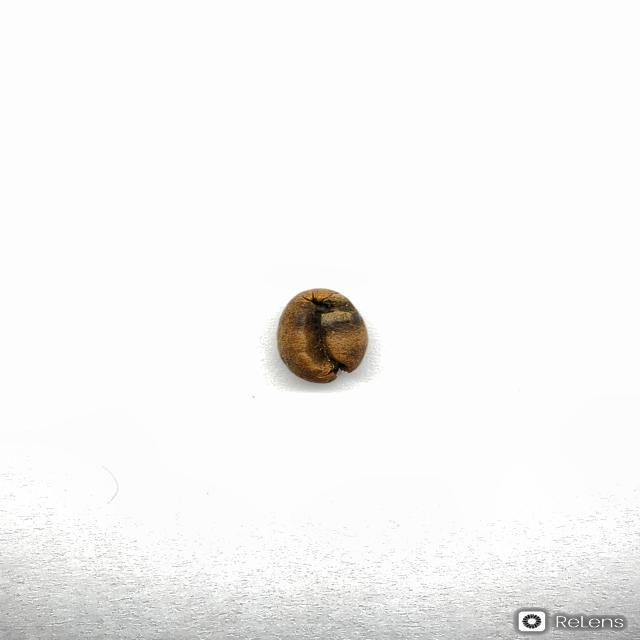Scorched: (274, 287, 370, 385)
